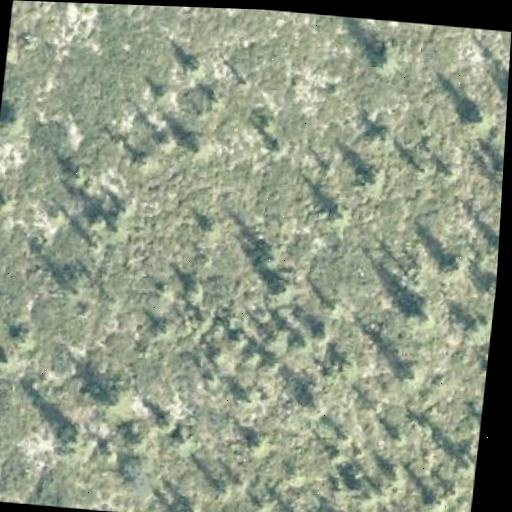tree-top: (96, 383, 136, 421), (54, 421, 91, 461), (192, 205, 227, 246), (398, 301, 434, 336), (457, 105, 494, 139), (354, 163, 389, 197), (438, 252, 471, 287), (368, 46, 402, 79), (398, 358, 430, 392), (362, 124, 395, 156), (262, 324, 295, 356), (462, 311, 493, 345), (263, 277, 295, 309), (181, 130, 213, 162), (296, 390, 327, 422), (178, 52, 210, 82), (246, 431, 276, 461), (0, 102, 25, 137), (323, 202, 352, 230), (183, 277, 210, 306), (419, 489, 450, 512), (133, 148, 159, 174), (0, 348, 19, 371), (6, 41, 19, 65), (488, 233, 499, 260), (284, 505, 315, 512)
